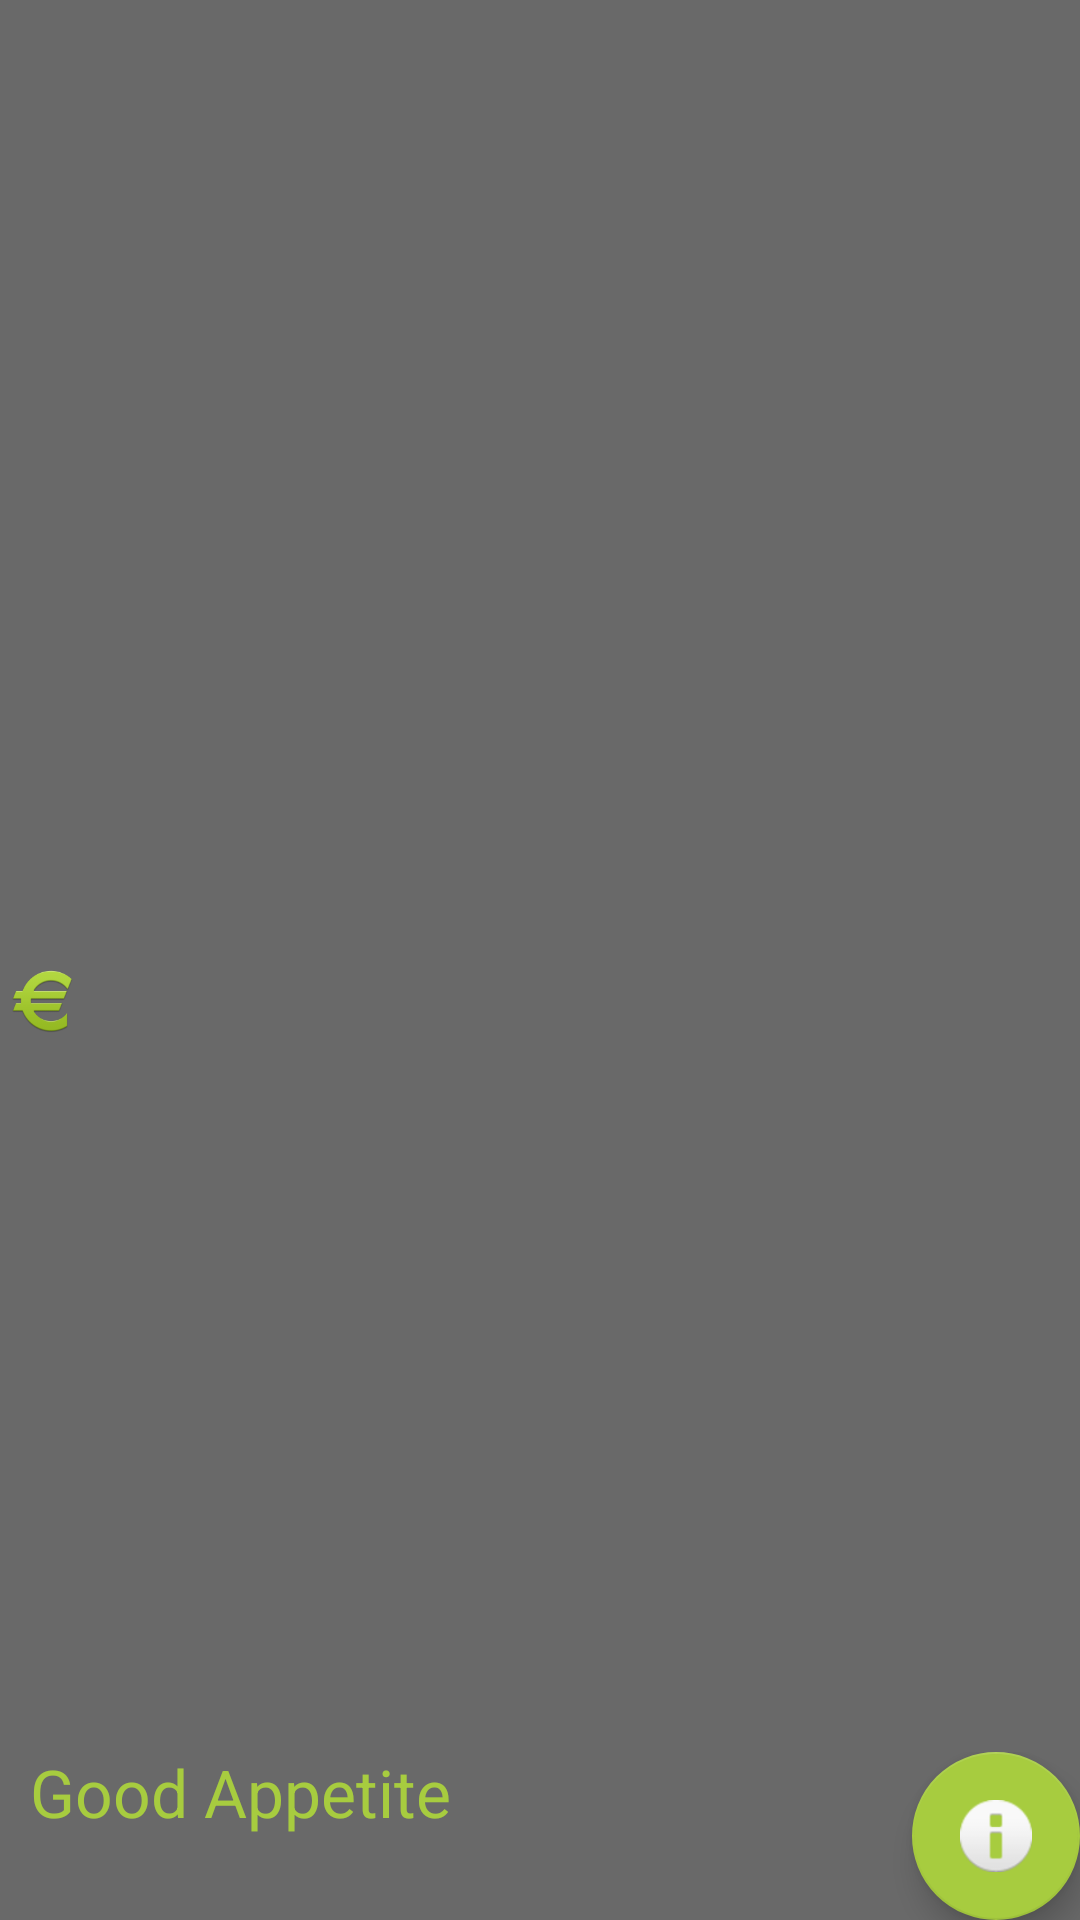

Icons on this 1080x1920 Android screen, each with the point to tap as (x=x, y=y):
info: (x=996, y=1836)
price: (x=42, y=1001)
